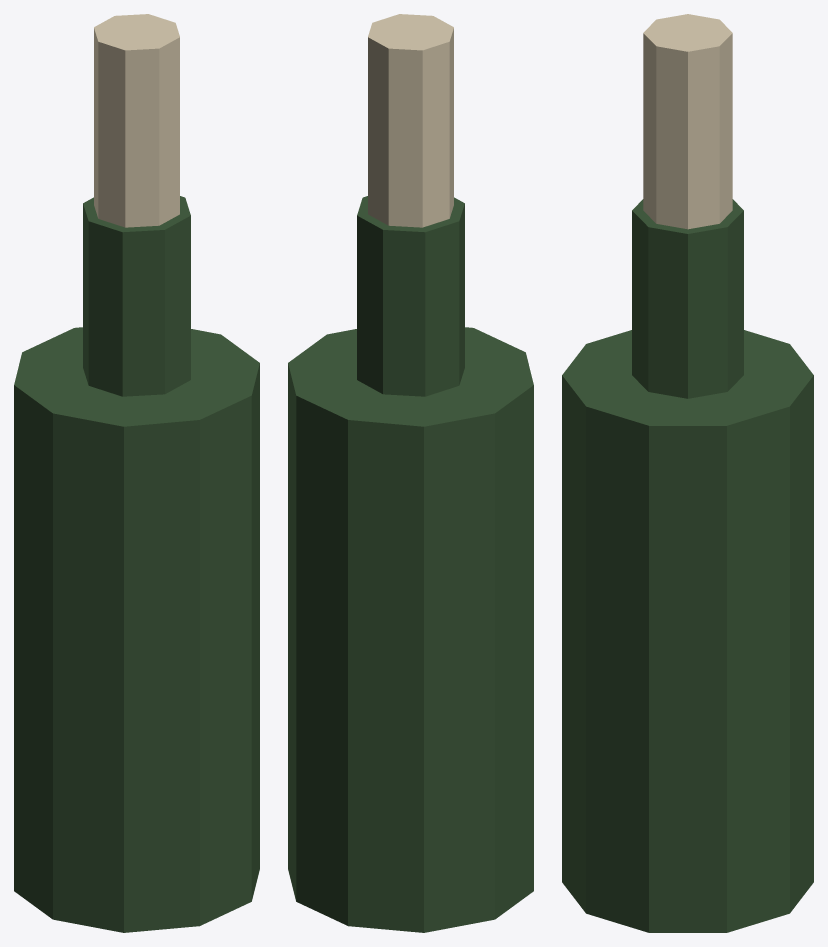
Rendered from WPN_Molotov01.glb.
3 renders of one model, left to right at view 1: azimuth 30°, elevation 25°; view 2: azimuth 150°, elevation 25°; view 3: azimuth 270°, elevation 25°, orthographic.
Parts seen in each view (by area): view 1: WPN_Molotov01_Body, WPN_Molotov01_Neck, WPN_Molotov01_Rag; view 2: WPN_Molotov01_Body, WPN_Molotov01_Neck, WPN_Molotov01_Rag; view 3: WPN_Molotov01_Body, WPN_Molotov01_Neck, WPN_Molotov01_Rag.
Part boxes in pixels (box(x1,y1,x2,y2)): WPN_Molotov01_Body: box(14, 327, 259, 932); WPN_Molotov01_Neck: box(83, 196, 190, 396); WPN_Molotov01_Rag: box(94, 14, 179, 227); WPN_Molotov01_Body: box(288, 327, 533, 932); WPN_Molotov01_Neck: box(357, 196, 464, 396); WPN_Molotov01_Rag: box(368, 14, 453, 227); WPN_Molotov01_Body: box(562, 330, 813, 932); WPN_Molotov01_Neck: box(632, 199, 743, 398); WPN_Molotov01_Rag: box(643, 14, 732, 229).
Size of the model in its own units: 0.0856 by 0.335 by 0.09.
